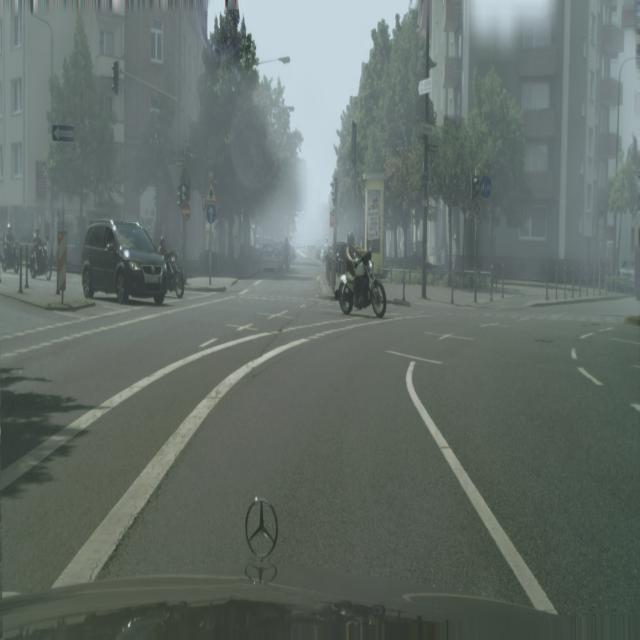motorcycle: (337, 220, 386, 316), (157, 244, 185, 299)
person: (81, 218, 168, 306), (260, 236, 284, 271)
